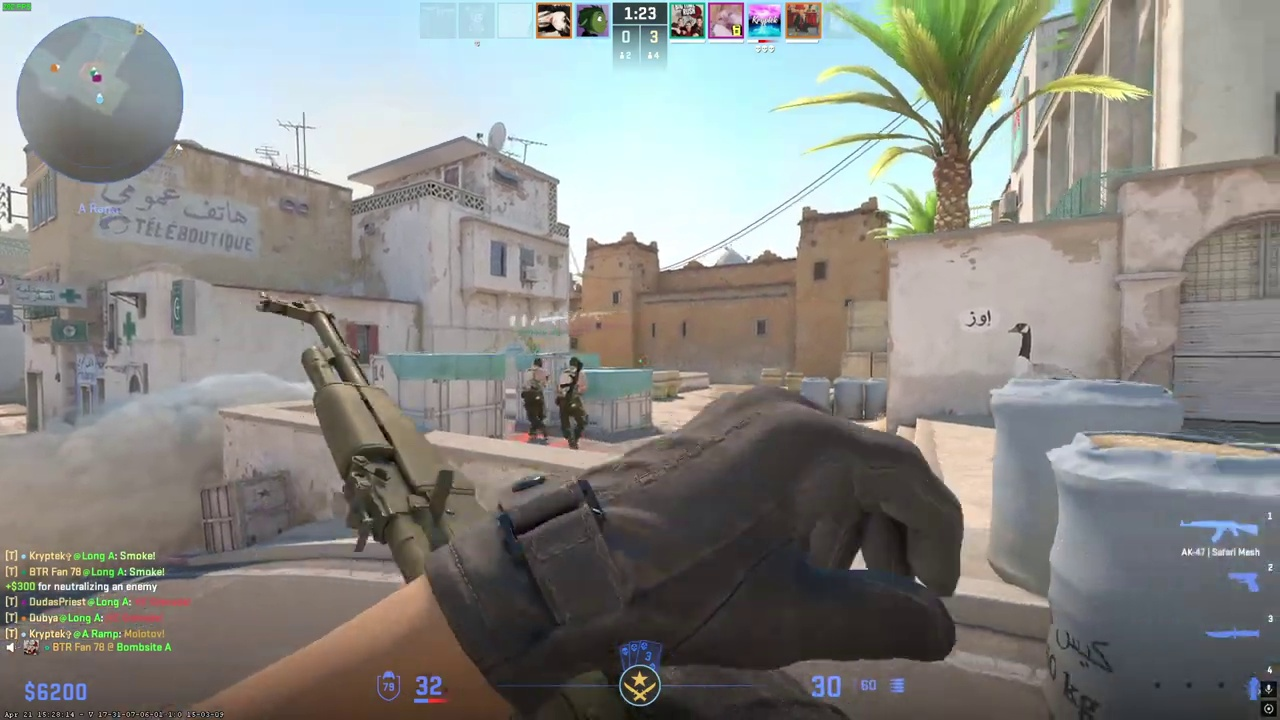Terrorist: (555, 357, 590, 449), (521, 357, 551, 442)
